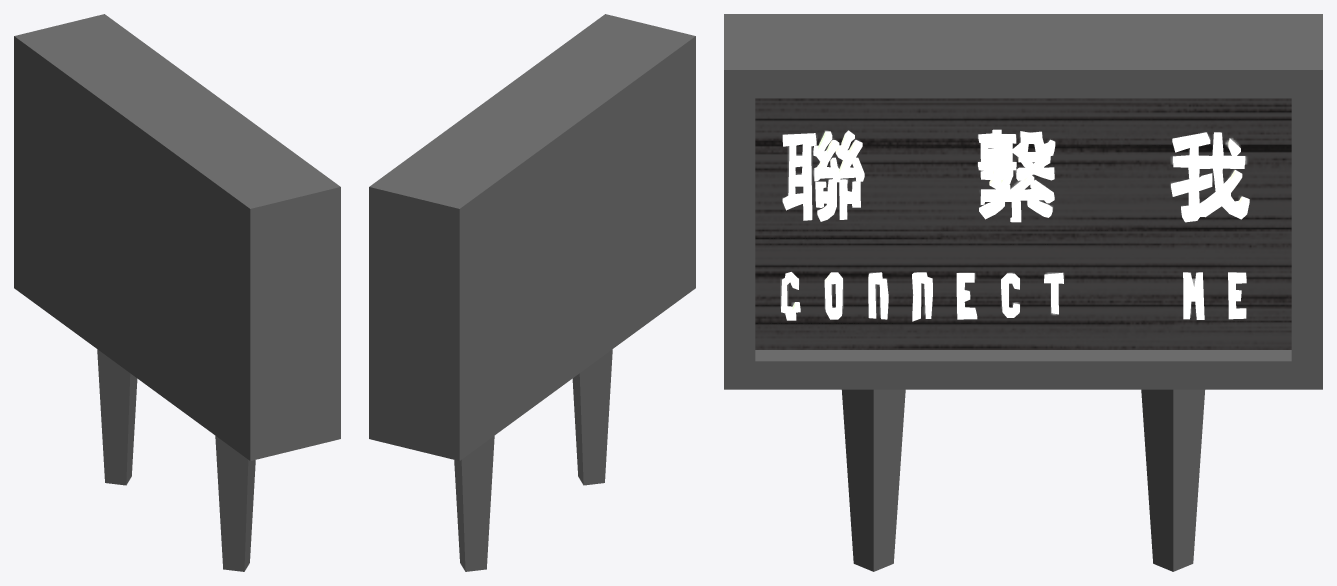
3 views of the same model, side by side, from view 1: azimuth 30°, elevation 25°; view 2: azimuth 150°, elevation 25°; view 3: azimuth 270°, elevation 25° (orthographic). The views are drawn at different scales.
Visible parts, largest first — view 1: Cube.003; view 2: Cube.003; view 3: Cube.003.
Part boxes in pixels (x1,y1,x2,y2): Cube.003: (14,14,340,571); Cube.003: (369,14,695,571); Cube.003: (724,14,1322,571).
Bounding box in the file's own units: 0.228 × 0.9902 × 1.03.
3 materials, 1 textured.
